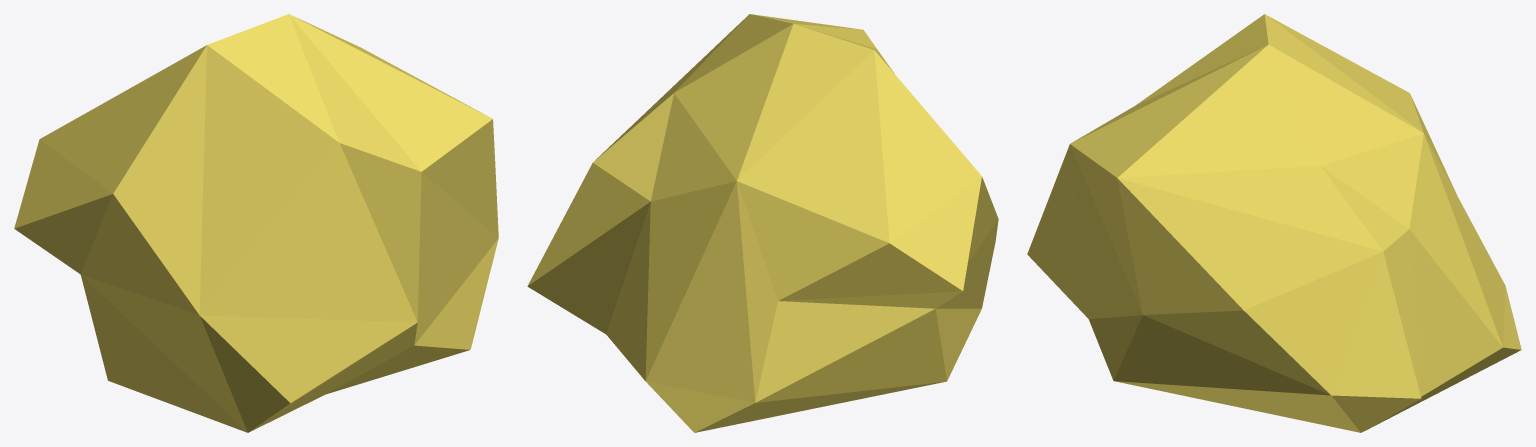
File: FremontodendronCalifornicum.glb
3 renders of one model, left to right at view 1: azimuth 30°, elevation 25°; view 2: azimuth 150°, elevation 25°; view 3: azimuth 270°, elevation 25°, orthographic. The views are drawn at different scales.
Visible parts, largest first — view 1: Crown; view 2: Crown; view 3: Crown.
Part boxes in pixels (bbox=[...]): Crown: bbox=[14, 14, 498, 432]; Crown: bbox=[527, 14, 998, 432]; Crown: bbox=[1027, 14, 1521, 432].
Bounding box in the file's own units: 2.88 × 2.04 × 2.87.
